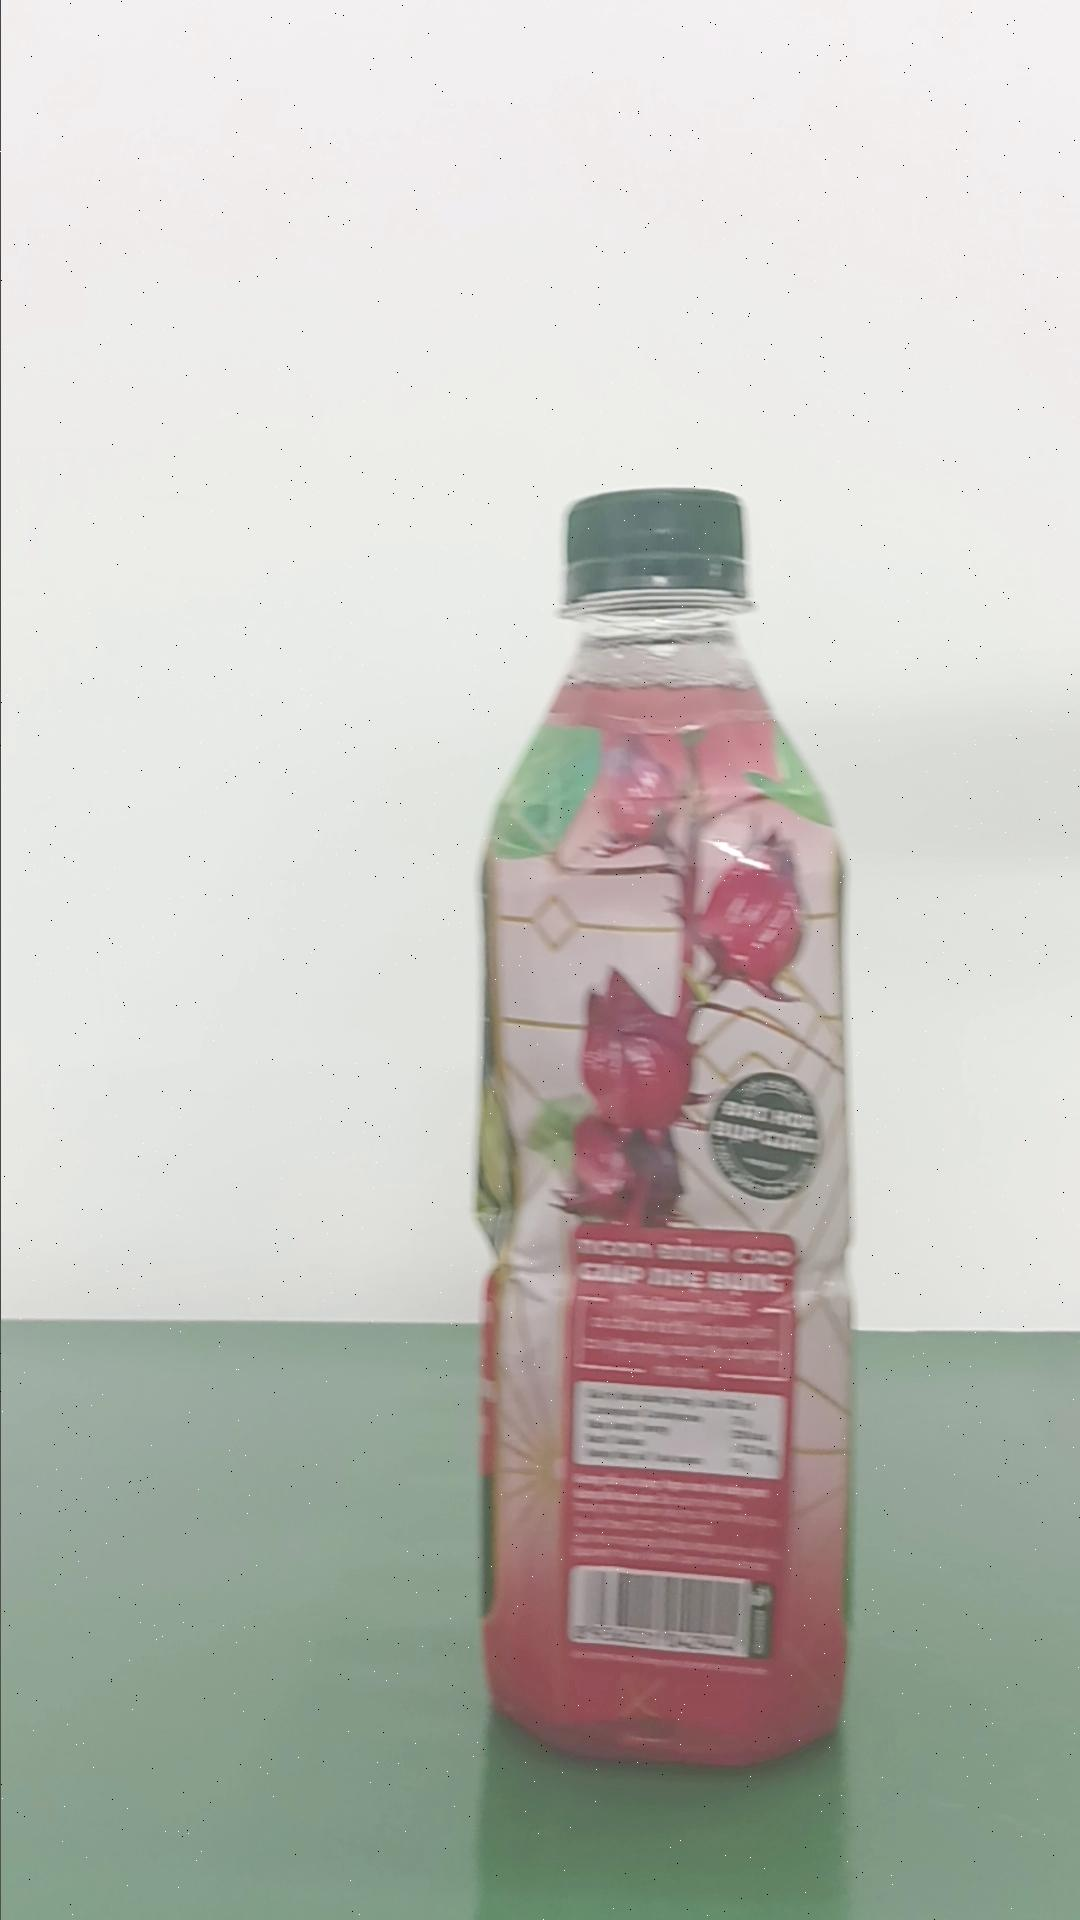loi meo sp: (469, 483, 857, 1768)
